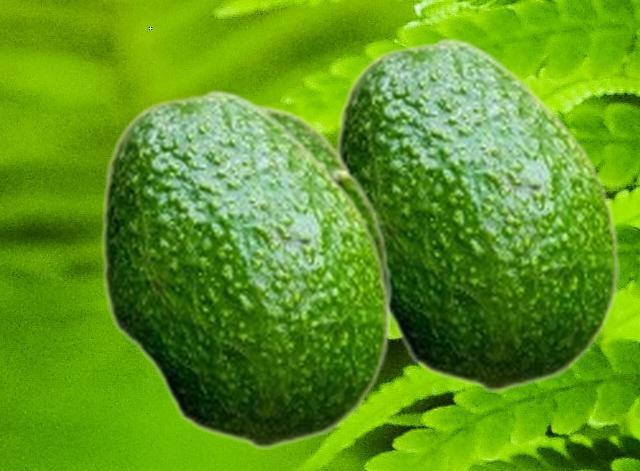avocado: (99, 88, 389, 448), (332, 36, 618, 391), (261, 105, 392, 346)
